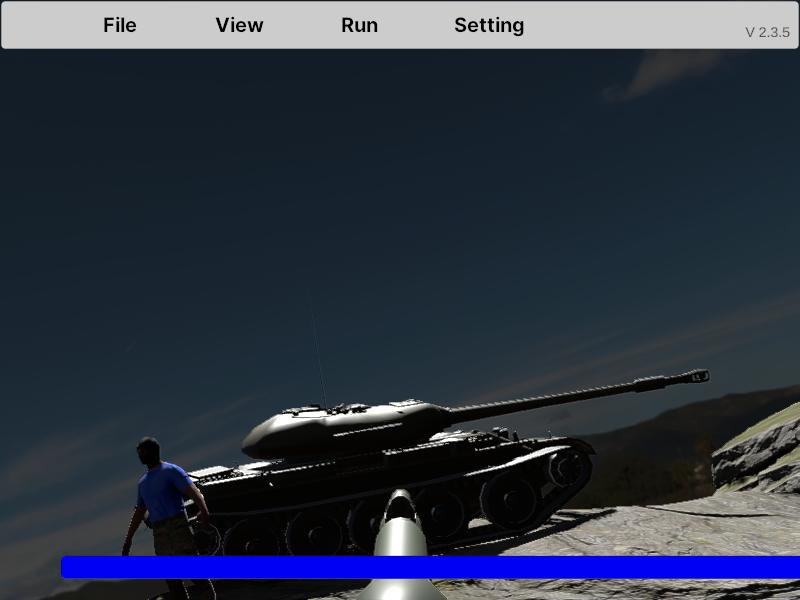Human: (122, 436, 215, 598)
Tank: (125, 368, 707, 570)
